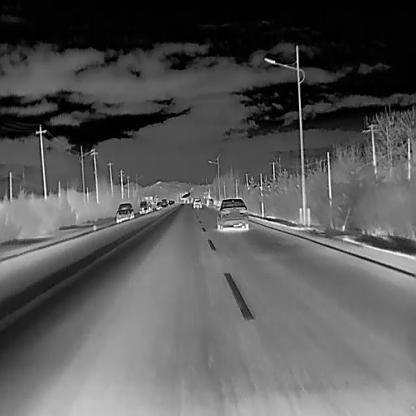car: (217, 197, 249, 231), (115, 202, 135, 224), (139, 200, 152, 214), (193, 197, 202, 208), (205, 198, 214, 207), (156, 201, 163, 210), (161, 198, 167, 208), (168, 199, 175, 206)
